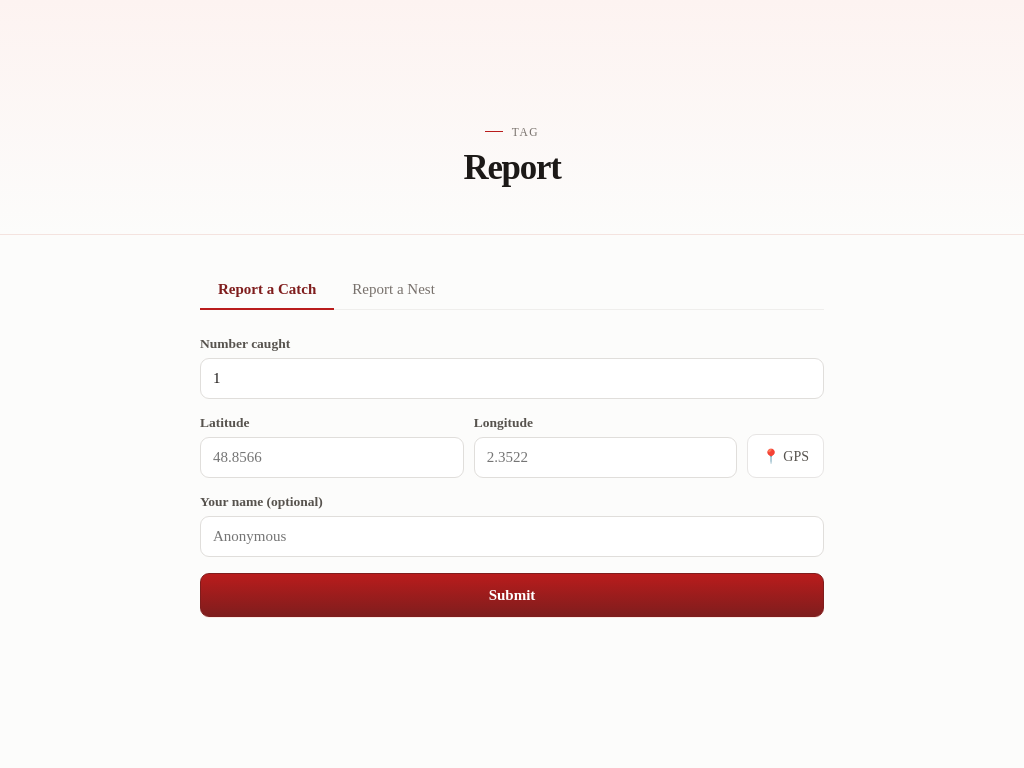
Test case: HornetReportPage › switches to nest form when nest tab is clicked
The image size is (1024, 768).
Click the button "Report a Nest" at (394,291), box [334,271,453,310]
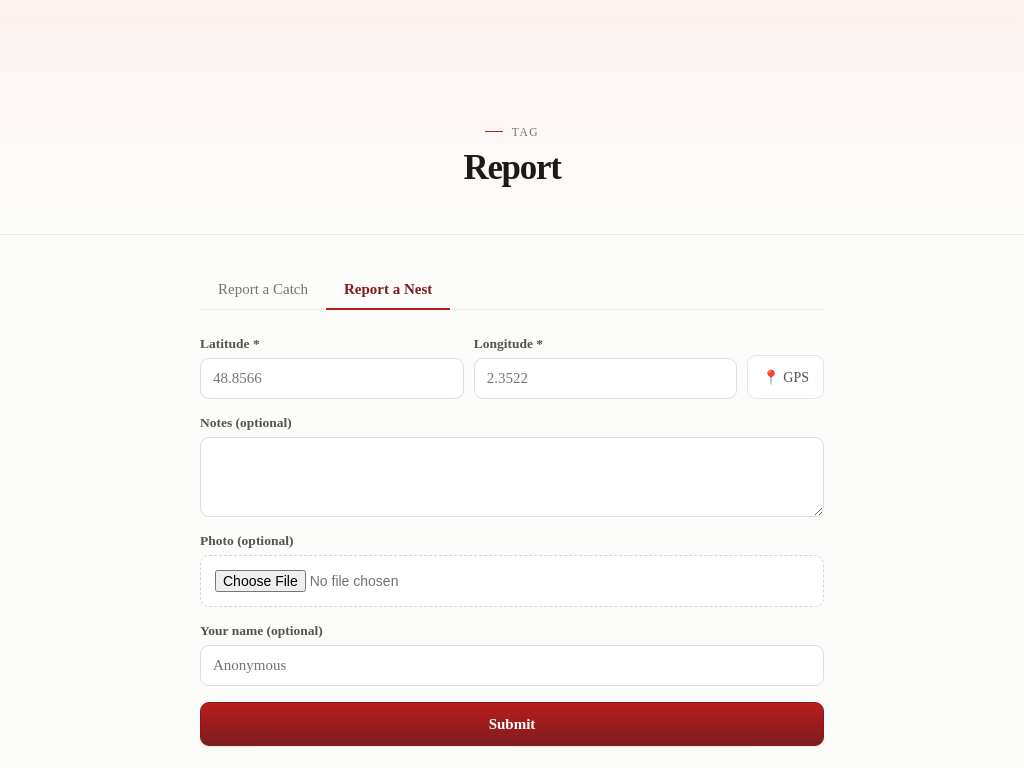
Now the text "Notes (optional)" is shown, box [200,415,824,517]
